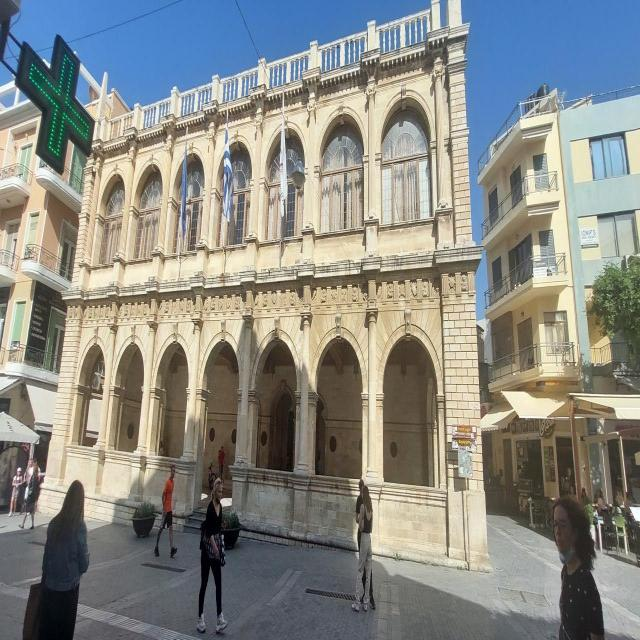Loggia: (35, 1, 503, 579)
